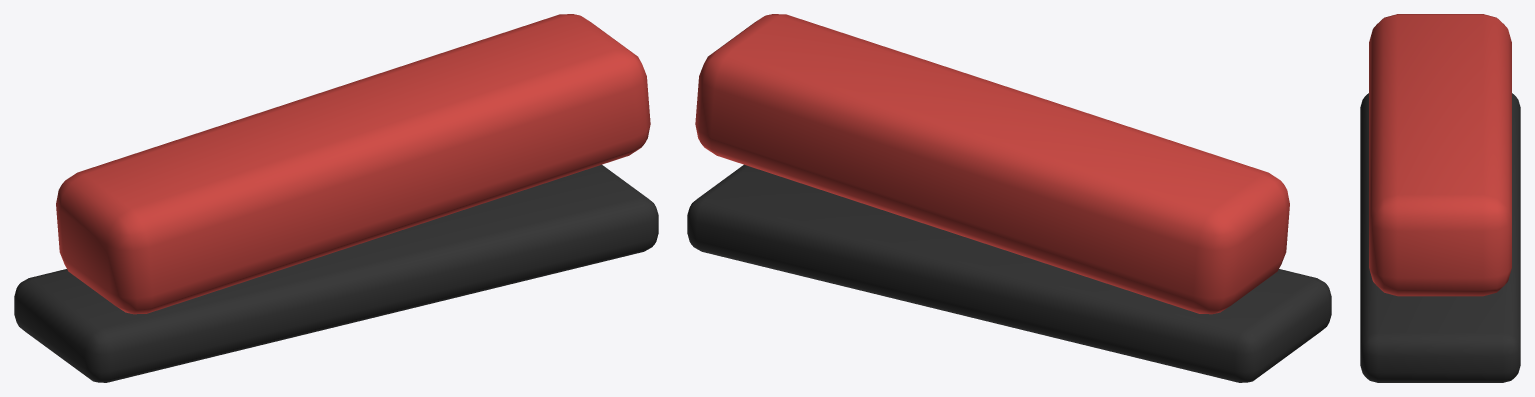
Rendered from stapler.glb.
The picture shows the model from 3 angles, left to right: view 1: azimuth 30°, elevation 25°; view 2: azimuth 150°, elevation 25°; view 3: azimuth 270°, elevation 25°; orthographic projection. The views are drawn at different scales.
Visible parts, largest first — view 1: arm, base; view 2: arm, base; view 3: arm, base.
Boxes of the visible parts, box(x1,y1,x2,y2) form: arm: box(56, 14, 650, 314); base: box(14, 164, 658, 382); arm: box(695, 14, 1289, 314); base: box(687, 164, 1331, 382); arm: box(1369, 14, 1511, 296); base: box(1360, 93, 1520, 382).
Bounding box in the file's own units: 0.1703 × 0.0557 × 0.045.
